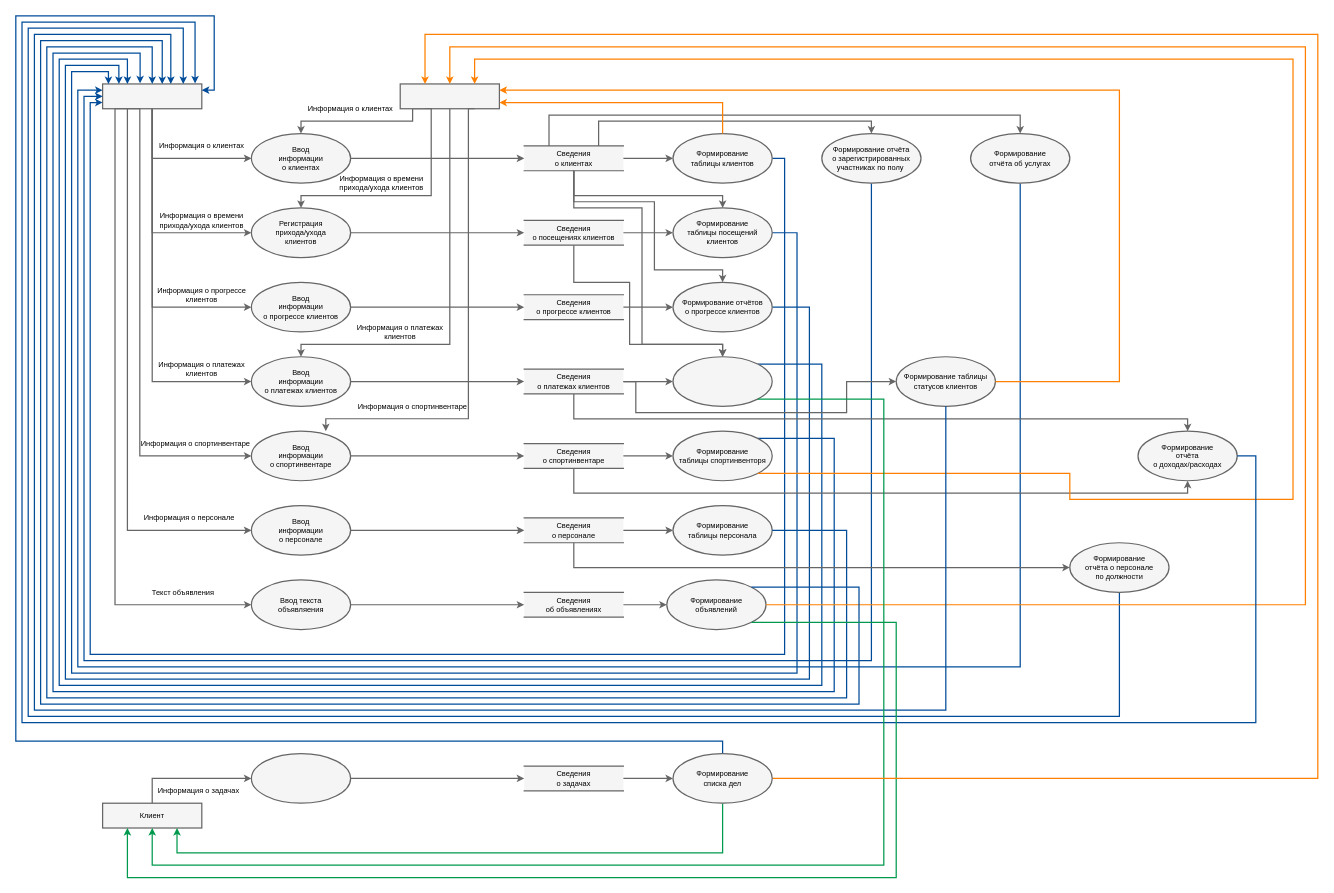
Some shapes in this 1334 by 893 pixel diagram are drawn without their labels. The centre of each missing label's shape, as x and y in pixels:
"Администратор" goes at point 152,96.
"Ввод задач в список дел" goes at point 300,778.
"Персонал" goes at point 449,96.
"Формирование отчётов о клиентах" goes at point 722,381.
